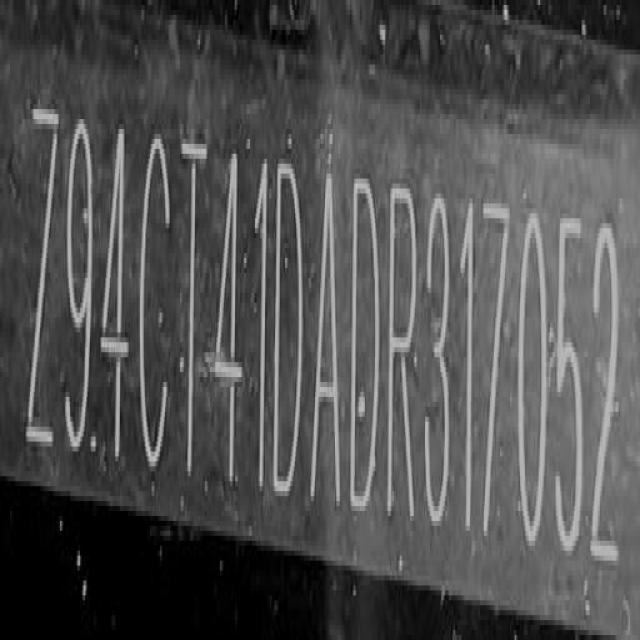0: (518, 205, 550, 556)
1: (253, 150, 273, 504), (460, 198, 474, 530)
2: (593, 217, 627, 581)
3: (423, 191, 455, 537)
4: (207, 137, 246, 499), (99, 117, 135, 478)
5: (552, 210, 584, 568)
7: (476, 196, 512, 550)
9: (62, 110, 95, 471)
A: (309, 157, 344, 517)
C: (134, 126, 172, 486)
D: (351, 172, 382, 524), (274, 160, 305, 507)
R: (388, 178, 422, 530)
T: (181, 130, 209, 494)
Z: (26, 105, 64, 467)
